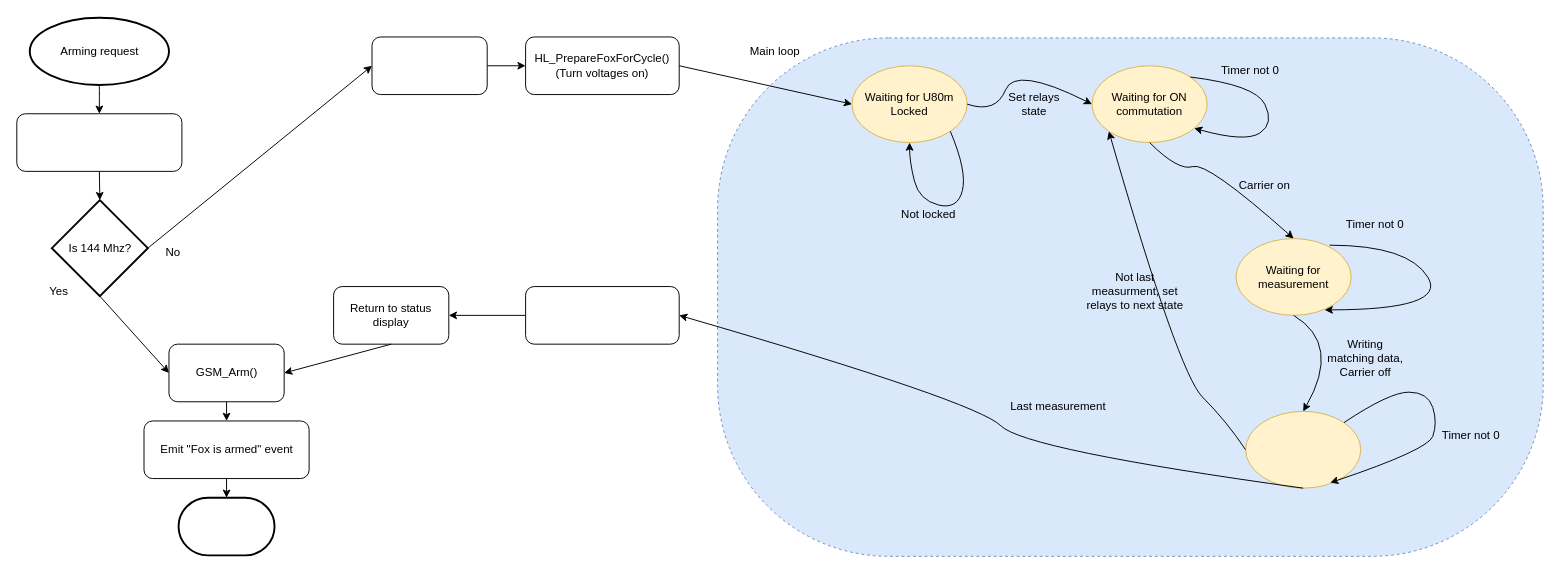
The diagram is 1560 pixels wide and 573 high, and some of its shapes have lost their labels. Here are the shapes that lost their labels. From the top down, the centre of each, then its label:
pixel 429 65: Reset matching data, show matching display
pixel 99 142: Emit "Arming Initiated" event
pixel 602 315: HL_UnPrepareFoxForCycle() (Turn voltages off)
pixel 1303 449: Waiting for OFF commutation
pixel 226 526: Done
